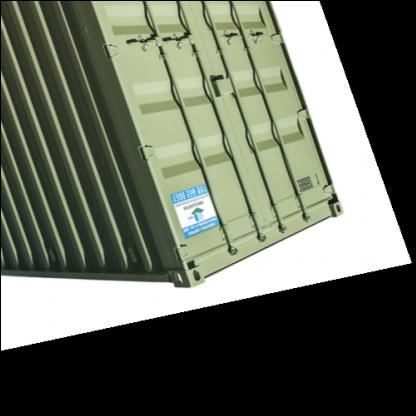Damage: (71, 13, 98, 50)
